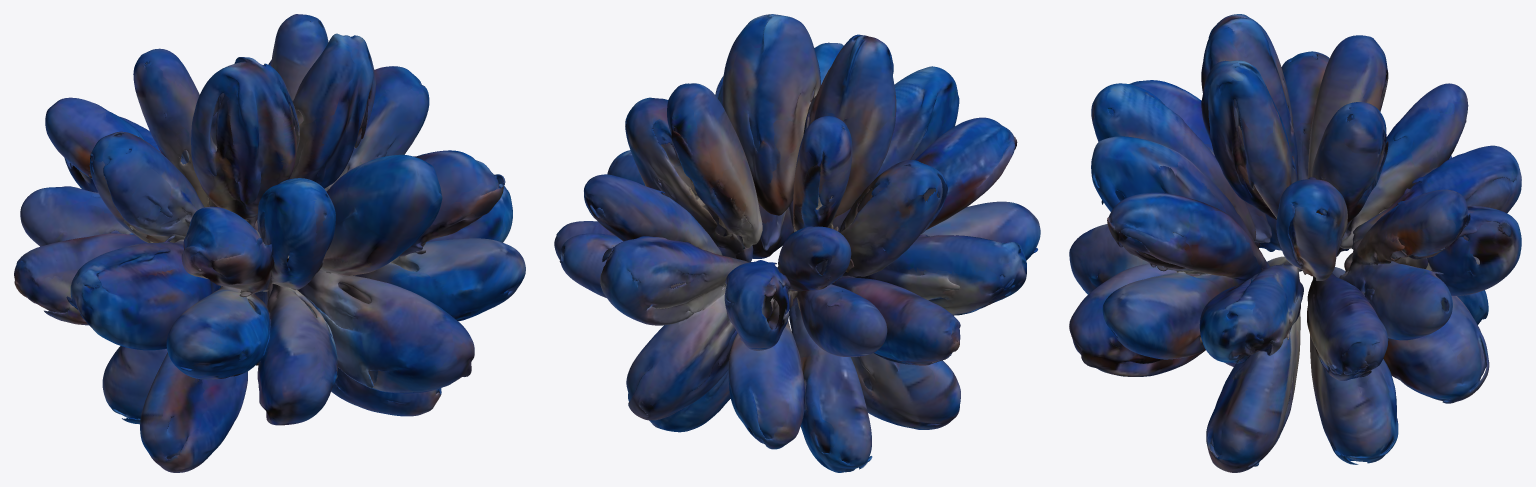
File: mussel_bed_b.glb
3 views of the same model, side by side, from view 1: azimuth 30°, elevation 25°; view 2: azimuth 150°, elevation 25°; view 3: azimuth 270°, elevation 25° (orthographic). The views are drawn at different scales.
Visible parts, largest first — view 1: tripo_node_af899a46-e39d-4bfa-9650-1294d45ad814; view 2: tripo_node_af899a46-e39d-4bfa-9650-1294d45ad814; view 3: tripo_node_af899a46-e39d-4bfa-9650-1294d45ad814.
Boxes of the visible parts, box(x1,y1,x2,y2) form: tripo_node_af899a46-e39d-4bfa-9650-1294d45ad814: box(14, 14, 525, 472); tripo_node_af899a46-e39d-4bfa-9650-1294d45ad814: box(554, 14, 1040, 472); tripo_node_af899a46-e39d-4bfa-9650-1294d45ad814: box(1069, 14, 1521, 472).
Bounding box in the file's own units: 0.9999 × 0.8813 × 0.9514.
Materials: 1 (1 with a texture image).
